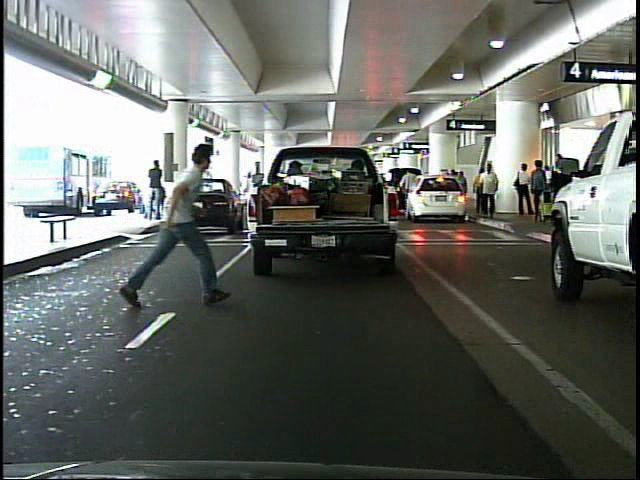person: (110, 124, 230, 318), (472, 156, 500, 224), (530, 158, 552, 225), (513, 156, 536, 219), (147, 157, 169, 220)
